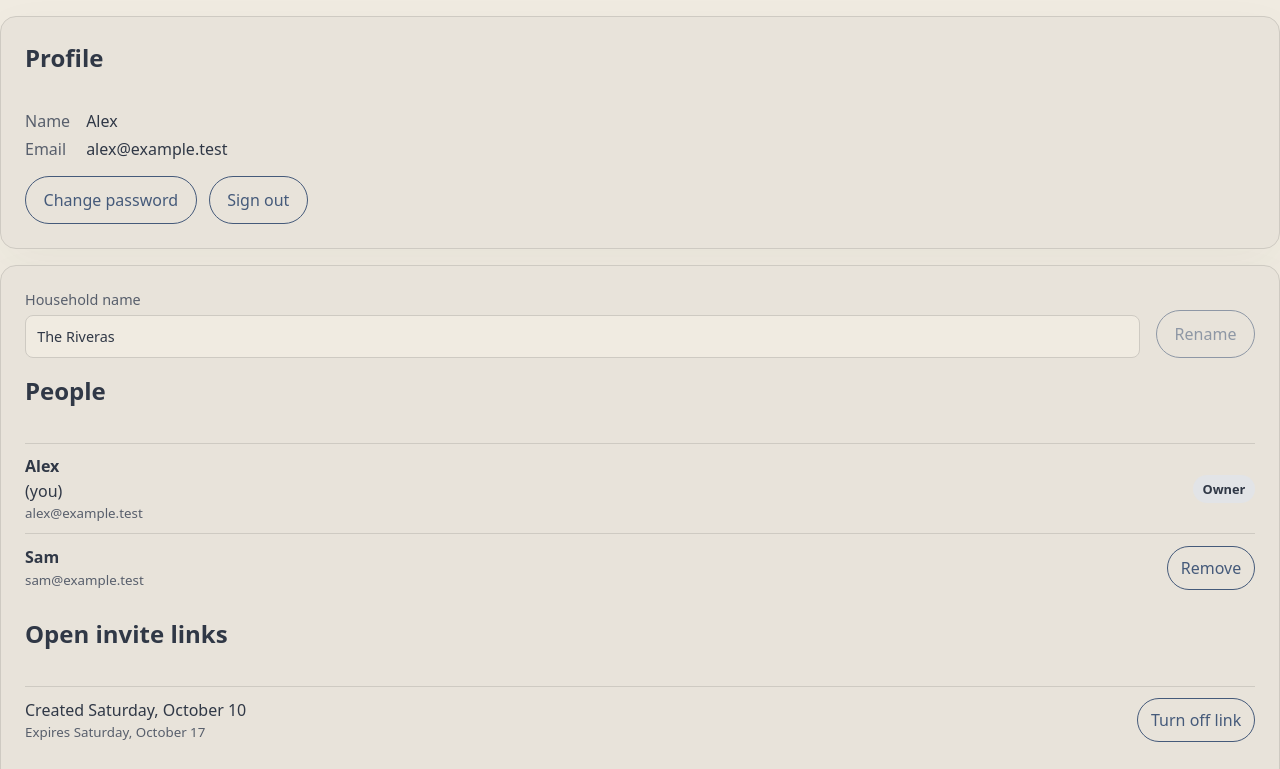
Test: lets the owner remove someone else but not themselves
Click the button "Remove": (1211, 568) [1167,546,1255,590]
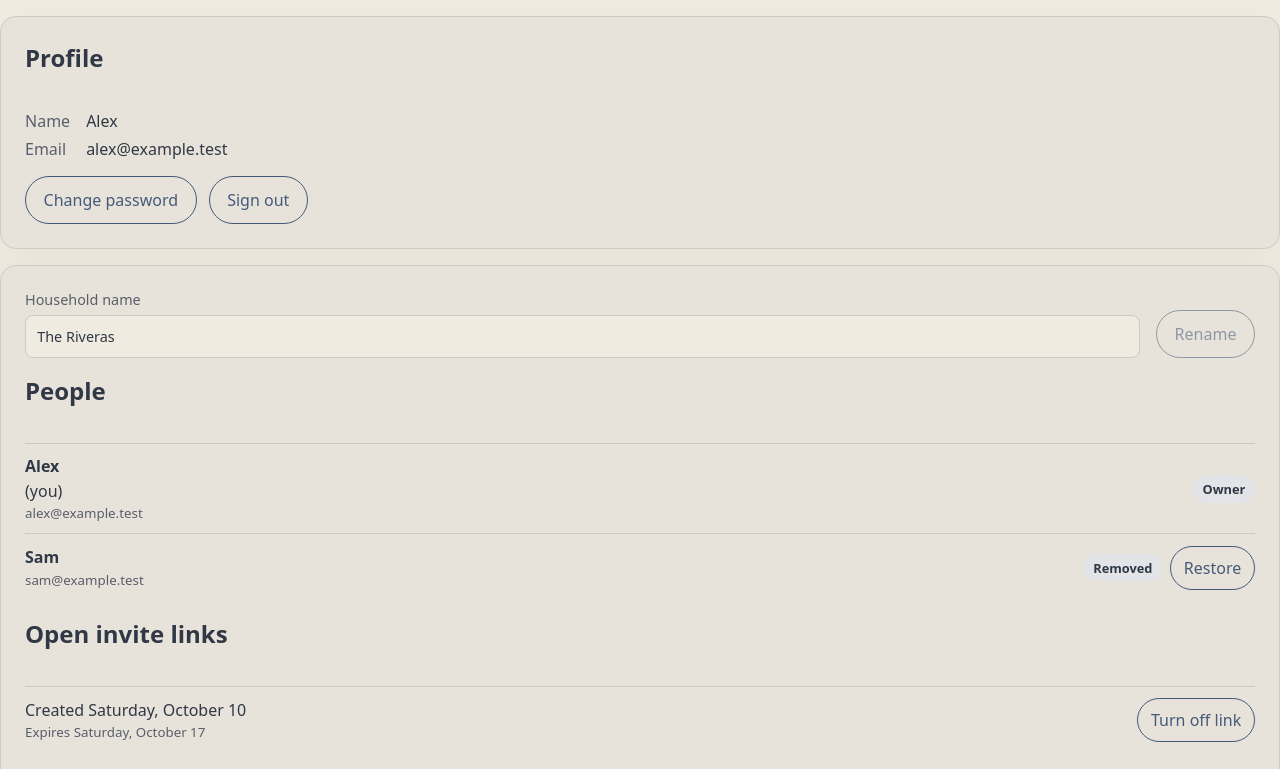
Check: the button "Restore" is shown, box [1170,546,1255,590]
